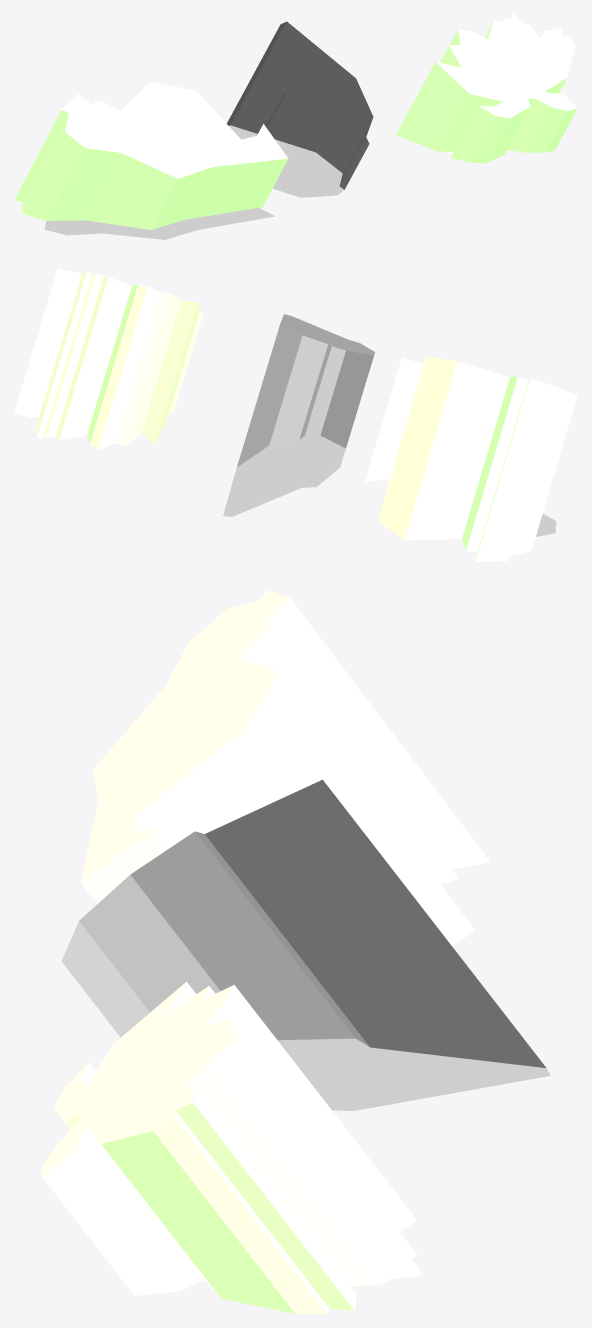
Rendered from Leaf2.glb.
The picture shows the model from 3 angles, top to bottom: view 1: azimuth 30°, elevation 25°; view 2: azimuth 150°, elevation 25°; view 3: azimuth 270°, elevation 25°; orthographic projection. The views are drawn at different scales.
Parts seen in each view (by area): view 1: Plane.003, Plane.002, Plane.001, Plane; view 2: Plane.003, Plane.002, Plane.001; view 3: Plane.001, Plane.002, Plane.003.
Part boxes in pixels (bbox=[...]): Plane.003: bbox=[14, 82, 288, 229]; Plane.002: bbox=[396, 14, 577, 163]; Plane.001: bbox=[226, 21, 373, 197]; Plane: bbox=[44, 208, 274, 239]; Plane.003: bbox=[365, 356, 577, 561]; Plane.002: bbox=[14, 268, 203, 450]; Plane.001: bbox=[223, 314, 374, 516]; Plane.001: bbox=[61, 779, 550, 1110]; Plane.002: bbox=[41, 981, 422, 1313]; Plane.003: bbox=[80, 590, 490, 946].
Size of the model in its own units: 16.67 by 4.89 by 7.48.
